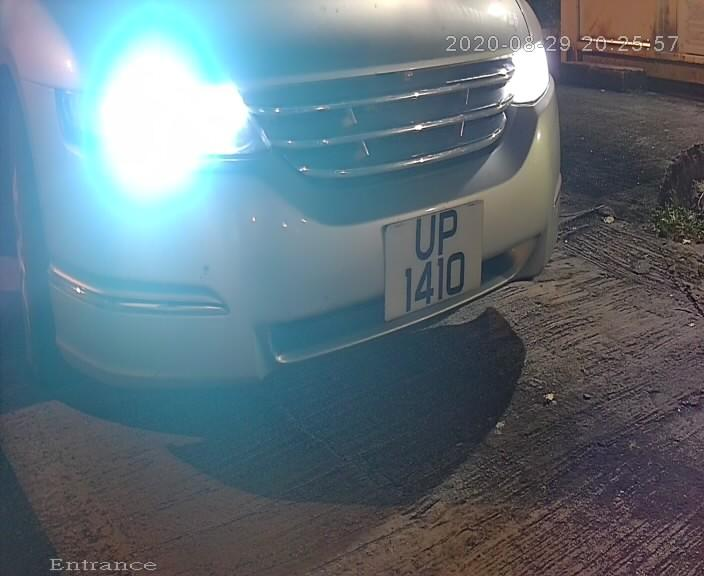License Plate: (384, 186, 491, 335)
